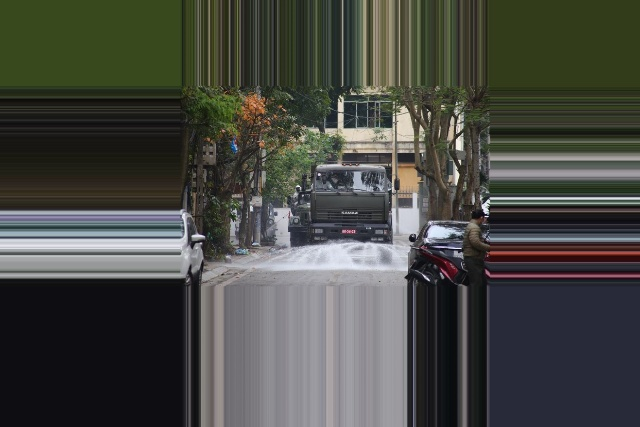plate: (339, 226, 357, 235)
